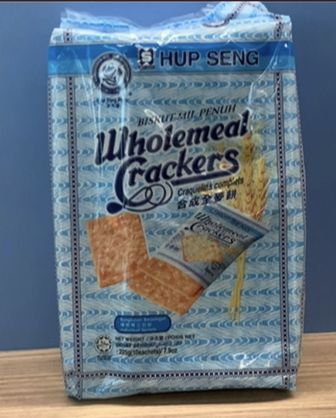crackers_200g-299g: (85, 44, 282, 361)
